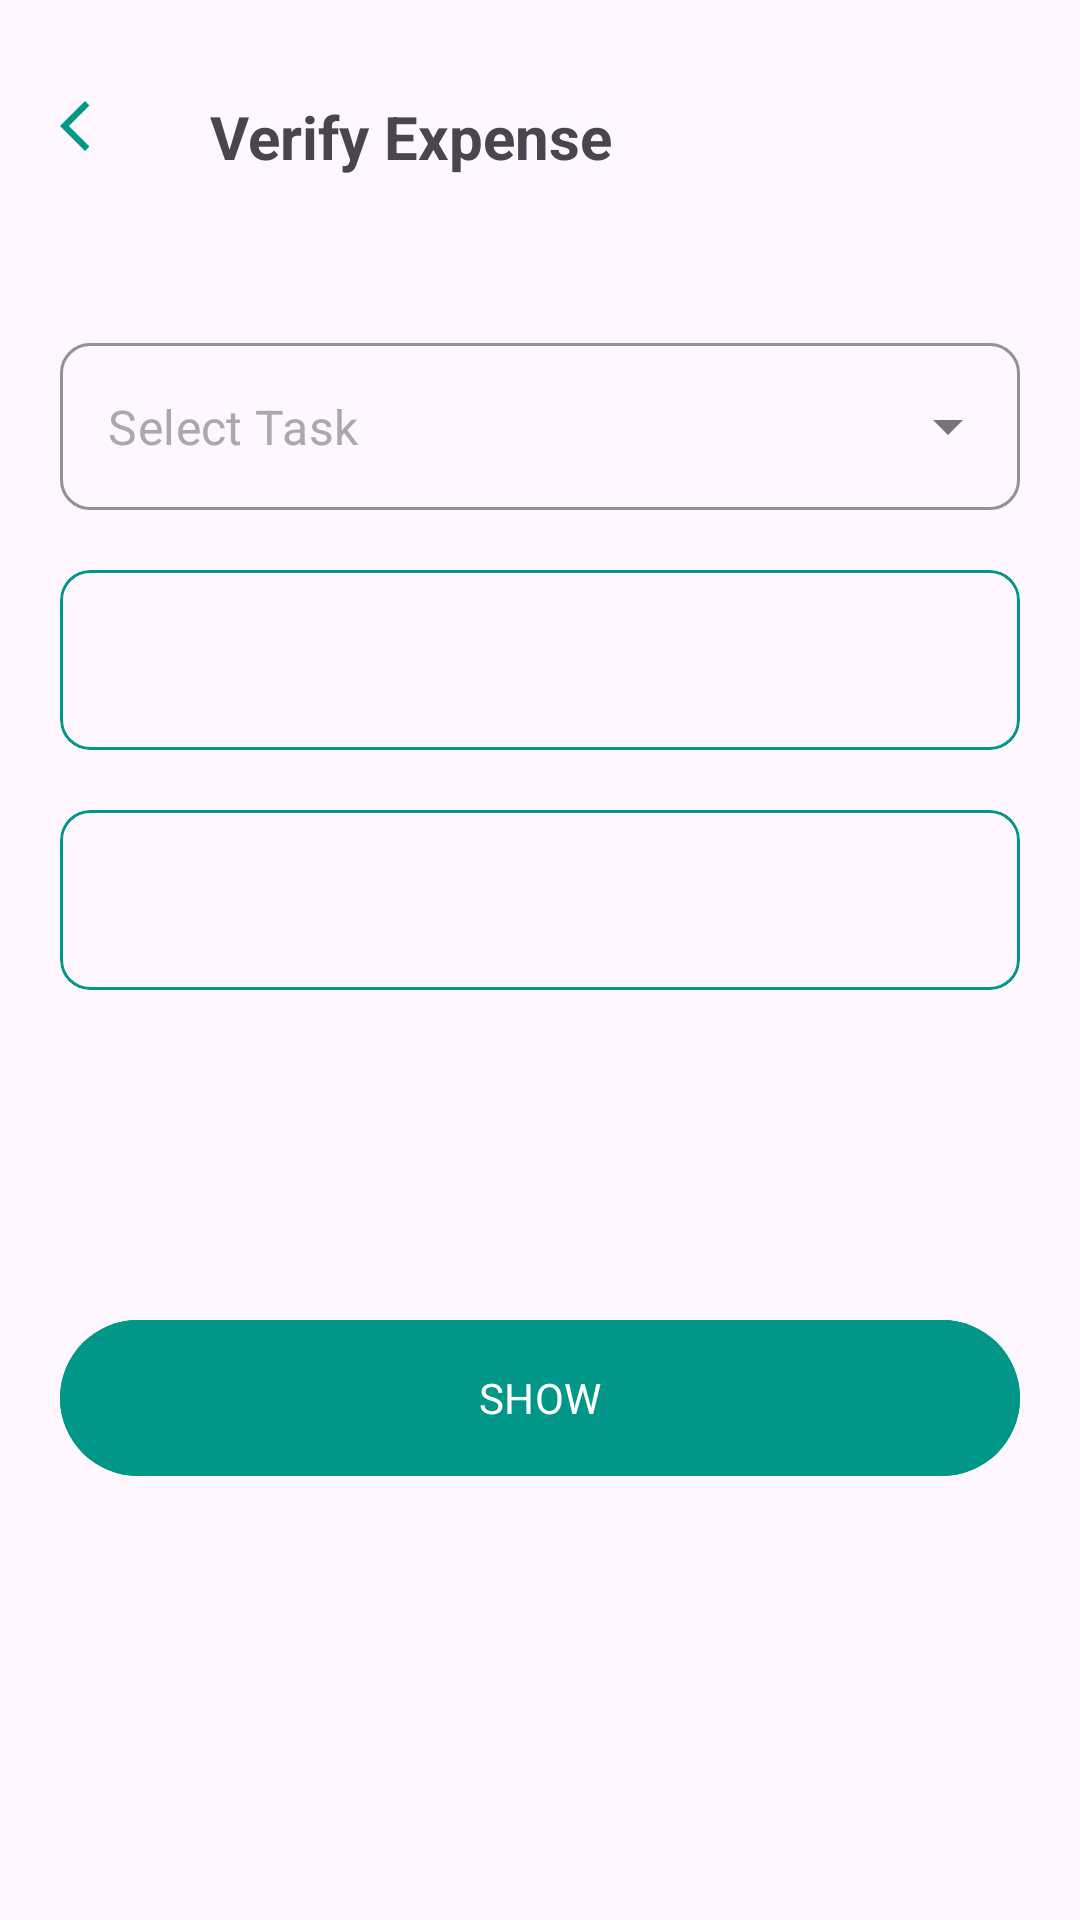

Named icons in this screenshot (1080px x 1920px) and their bounding boxes, (x1,y1,x2,y2):
back: (60,101,90,151)
